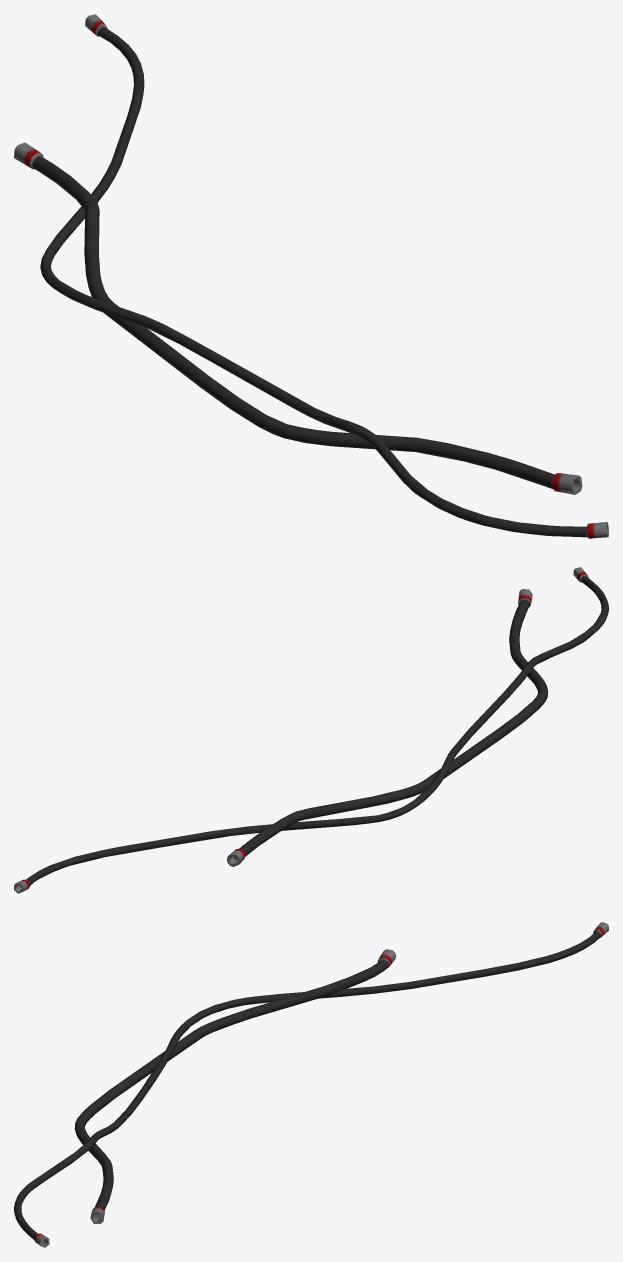
Rendered from core_cable.glb.
The picture shows the model from 3 angles, top to bottom: view 1: azimuth 30°, elevation 25°; view 2: azimuth 150°, elevation 25°; view 3: azimuth 330°, elevation 25°; orthographic projection. The views are drawn at different scales.
Visible parts, largest first — view 1: Prop_Cable_3; view 2: Prop_Cable_3; view 3: Prop_Cable_3.
Boxes of the visible parts, bbox=[...] form: Prop_Cable_3: bbox=[14, 14, 608, 538]; Prop_Cable_3: bbox=[14, 567, 608, 893]; Prop_Cable_3: bbox=[14, 922, 608, 1247].
Size of the model in its own units: 1.56 by 0.1134 by 5.73.
2 materials, 2 textured.
